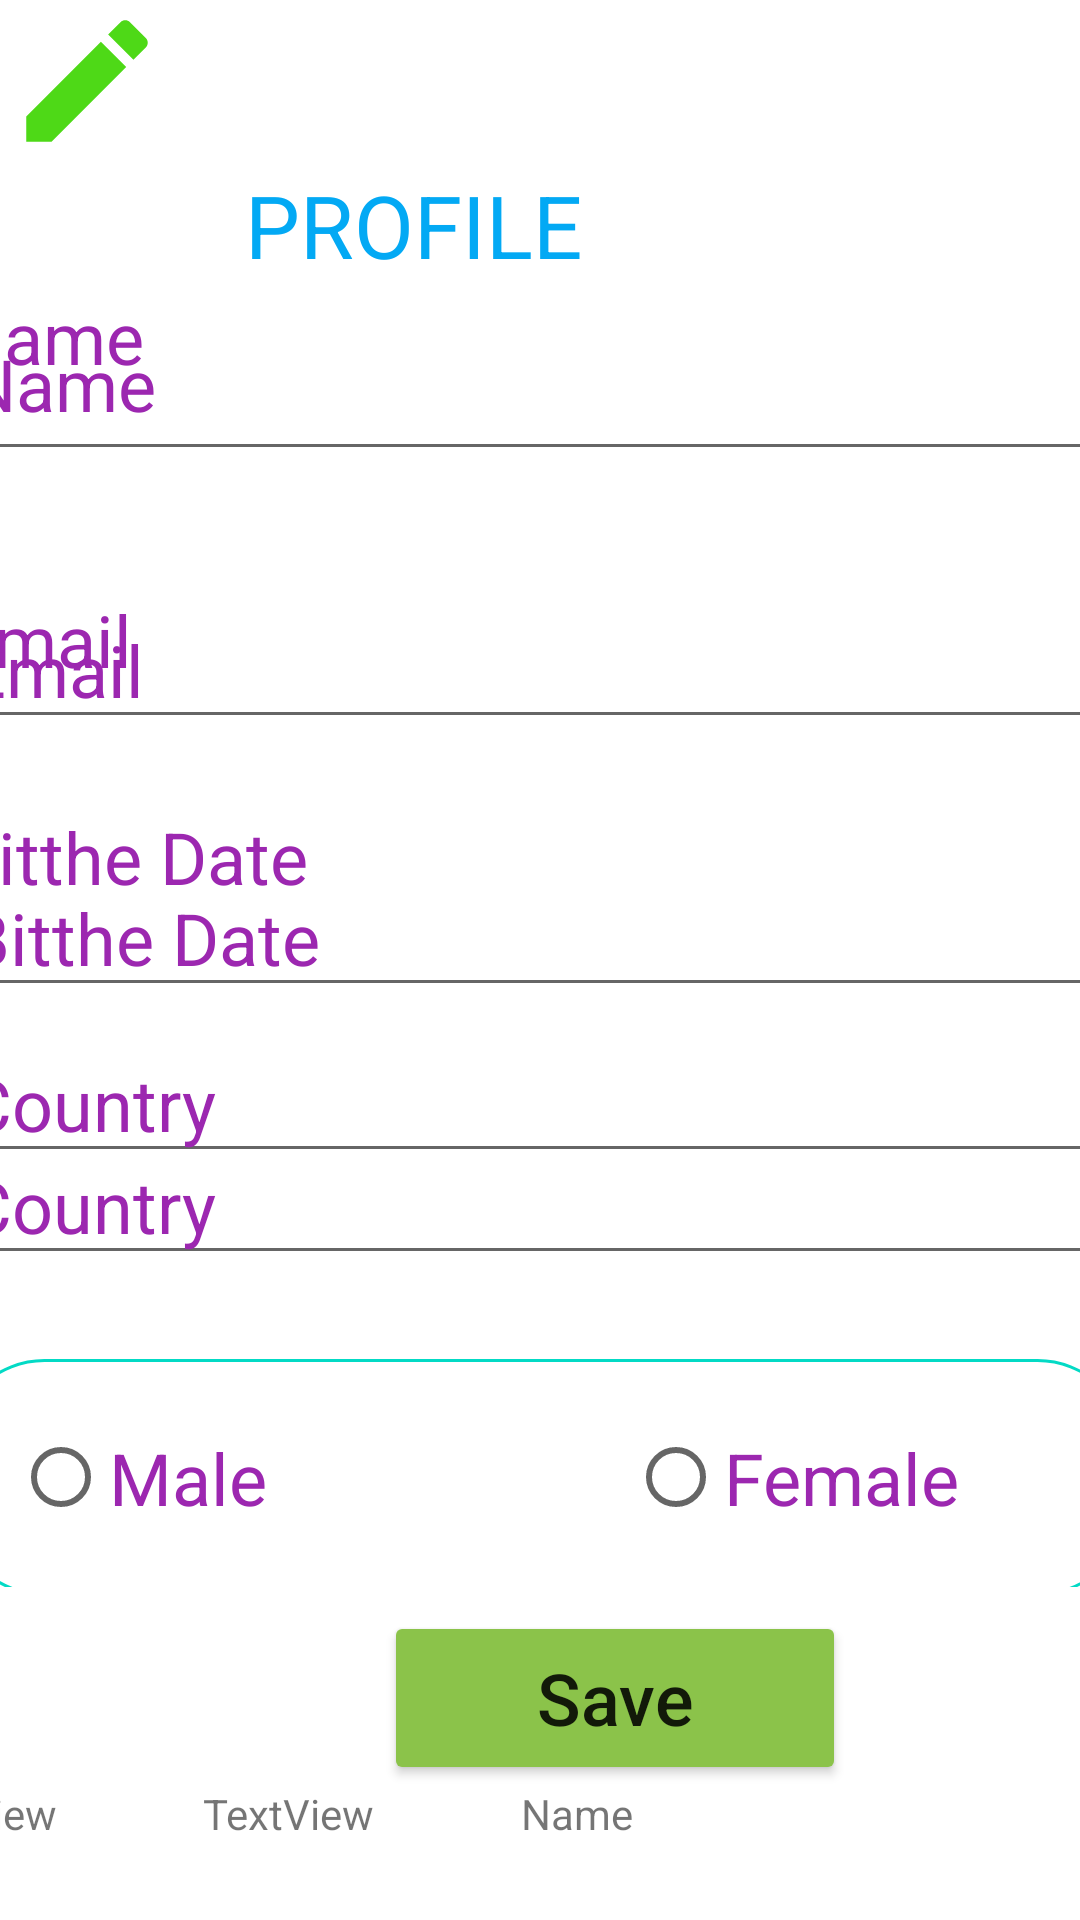

Screen size 1080 x 1920. Icon name, then its box in pixels as (x1, y1, x2, y2):
edit: (26, 20, 148, 142)
